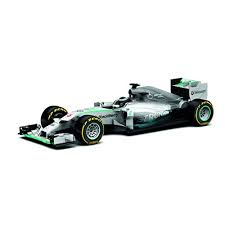FormulaOneCar: (13, 73, 216, 152)
